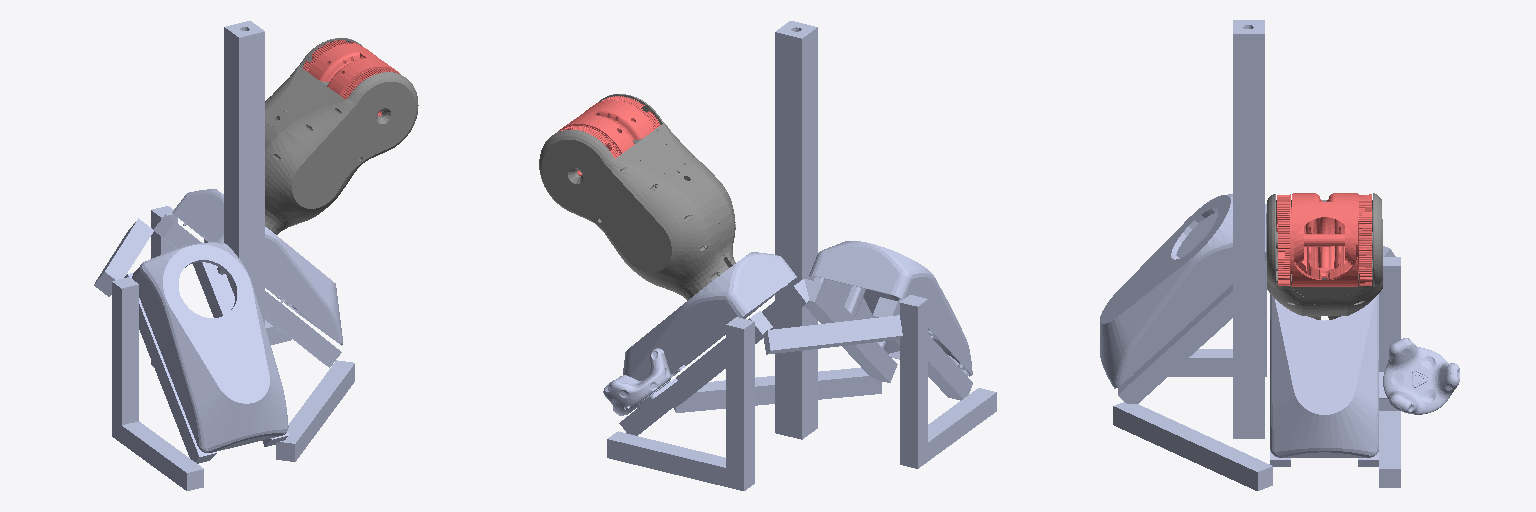
URDF robot description (koko_description_threedof_dyn):
<robot
  name="koko_description_threedof_dyn">
  <link
    name="base_link">
    <inertial>
      <origin
        xyz="0.0167813742037007 -0.156233711844303 0.154308684460535"
        rpy="0 0 0" />
      <mass
        value="2.59188408490607" />
      <inertia
        ixx="0.0629598955948742"
        ixy="-0.00942160694730313"
        ixz="0.000756500622876714"
        iyy="0.0611228412796982"
        iyz="0.000232419074296784"
        izz="0.0415578554498367" />
    </inertial>
    <visual>
      <origin
        xyz="0 0 0"
        rpy="0 0 0" />
      <geometry>
        <mesh
          filename="package://koko_description_threedof_dyn/meshes/base_link.STL" />
      </geometry>
      <material
        name="">
        <color
          rgba="0.792156862745098 0.819607843137255 0.933333333333333 1" />
      </material>
    </visual>
    <collision>
      <origin
        xyz="0 0 0"
        rpy="0 0 0" />
      <geometry>
        <mesh
          filename="package://koko_description_threedof_dyn/meshes/base_link.STL" />
      </geometry>
    </collision>
  </link>
  <link
    name="base_roll_link">
    <inertial>
      <origin
        xyz="-0.00747857947952829 -2.49198025326636E-05 0.0799282586721559"
        rpy="0 0 0" />
      <mass
        value="4.07268027743269" />
      <inertia
        ixx="0.00617143853873105"
        ixy="-6.35617397339031E-07"
        ixz="-7.28586372305347E-06"
        iyy="0.00633184758217003"
        iyz="-4.26825720152351E-07"
        izz="0.00593999200785274" />
    </inertial>
    <visual>
      <origin
        xyz="0 0 0"
        rpy="0 0 0" />
      <geometry>
        <mesh
          filename="package://koko_description_threedof_dyn/meshes/base_roll_link.STL" />
      </geometry>
      <material
        name="">
        <color
          rgba="0.6 0.6 0.6 1" />
      </material>
    </visual>
    <collision>
      <origin
        xyz="0 0 0"
        rpy="0 0 0" />
      <geometry>
        <mesh
          filename="package://koko_description_threedof_dyn/meshes/base_roll_link.STL" />
      </geometry>
    </collision>
  </link>
  <joint
    name="base_roll_joint"
    type="continuous">
    <origin
      xyz="0.096645 -0.090805 0.21862"
      rpy="6.8385E-15 0.7854 4.8356E-15" />
    <parent
      link="base_link" />
    <child
      link="base_roll_link" />
    <axis
      xyz="0 0 1" />
  </joint>
  <link
    name="shoulder_link">
    <inertial>
      <origin
        xyz="-0.00194548267655537 -0.000308525194418541 -2.64734109634013E-08"
        rpy="0 0 0" />
      <mass
        value="0.437261200364267" />
      <inertia
        ixx="0.00108381098583672"
        ixy="1.14741689236012E-05"
        ixz="9.73805804020251E-07"
        iyy="0.00102494832628715"
        iyz="-1.61217444077573E-06"
        izz="0.000657515886602446" />
    </inertial>
    <visual>
      <origin
        xyz="0 0 0"
        rpy="0 0 0" />
      <geometry>
        <mesh
          filename="package://koko_description_threedof_dyn/meshes/shoulder_link.STL" />
      </geometry>
      <material
        name="">
        <color
          rgba="1 0.501960784313725 0.501960784313725 1" />
      </material>
    </visual>
    <collision>
      <origin
        xyz="0 0 0"
        rpy="0 0 0" />
      <geometry>
        <mesh
          filename="package://koko_description_threedof_dyn/meshes/shoulder_link.STL" />
      </geometry>
    </collision>
  </link>
  <joint
    name="shoulder_joint"
    type="continuous">
    <origin
      xyz="0.01143 4.0407E-05 0.20168"
      rpy="1.5708 -0.7854 0.0035351" />
    <parent
      link="base_roll_link" />
    <child
      link="shoulder_link" />
    <axis
      xyz="0 0 1" />
  </joint>
  <link
    name="shoulder_roll_link">
    <inertial>
      <origin
        xyz="-0.00624476977193023 -9.21624888806649E-05 0.073197077483341"
        rpy="0 0 0" />
      <mass
        value="4.76034588621041" />
      <inertia
        ixx="0.0157493288986156"
        ixy="-8.61170419671822E-06"
        ixz="-0.00115358914504996"
        iyy="0.01627865194805"
        iyz="-1.55878715822768E-05"
        izz="0.00791008496477049" />
    </inertial>
    <visual>
      <origin
        xyz="0 0 0"
        rpy="0 0 0" />
      <geometry>
        <mesh
          filename="package://koko_description_threedof_dyn/meshes/shoulder_roll_link.STL" />
      </geometry>
      <material
        name="">
        <color
          rgba="0.298039215686275 0.298039215686275 0.298039215686275 1" />
      </material>
    </visual>
    <collision>
      <origin
        xyz="0 0 0"
        rpy="0 0 0" />
      <geometry>
        <mesh
          filename="package://koko_description_threedof_dyn/meshes/shoulder_roll_link.STL" />
      </geometry>
    </collision>
  </link>
  <joint
    name="shoulder_roll_joint"
    type="continuous">
    <origin
      xyz="0.069522 0.012605 0"
      rpy="-1.5708 -0.014012 -1.3914" />
    <parent
      link="shoulder_link" />
    <child
      link="shoulder_roll_link" />
    <axis
      xyz="0 0 1" />
  </joint>
</robot>

--- Render facts (derived) ---
The picture shows the robot from 3 angles, left to right: view 1: azimuth 30°, elevation 25°; view 2: azimuth 150°, elevation 25°; view 3: azimuth 270°, elevation 25°; orthographic projection.
Model koko_description_threedof_dyn with 4 links and 3 joints (3 continuous), rooted at base_link, posed all joints at 0.
Links seen in each view (by area): view 1: base_link, base_roll_link, shoulder_link; view 2: base_link, base_roll_link, shoulder_link; view 3: base_link, shoulder_link, base_roll_link.
Boxes of the visible links, box(x1,y1,x2,y2) form: base_link: box(94, 21, 354, 490); base_roll_link: box(265, 38, 418, 234); shoulder_link: box(303, 40, 399, 116); base_link: box(603, 21, 996, 490); base_roll_link: box(539, 94, 735, 300); shoulder_link: box(558, 96, 660, 175); base_link: box(1100, 20, 1459, 490); shoulder_link: box(1277, 193, 1371, 286); base_roll_link: box(1267, 193, 1382, 319).
Size in the robot's own frame: 0.4557 by 0.43 by 0.5334 metres.
Meshes: 4 distinct files referenced, 3 mesh visuals loaded (3 binary STL); not drawn: 1 (reference not matched to a file when rendering).
